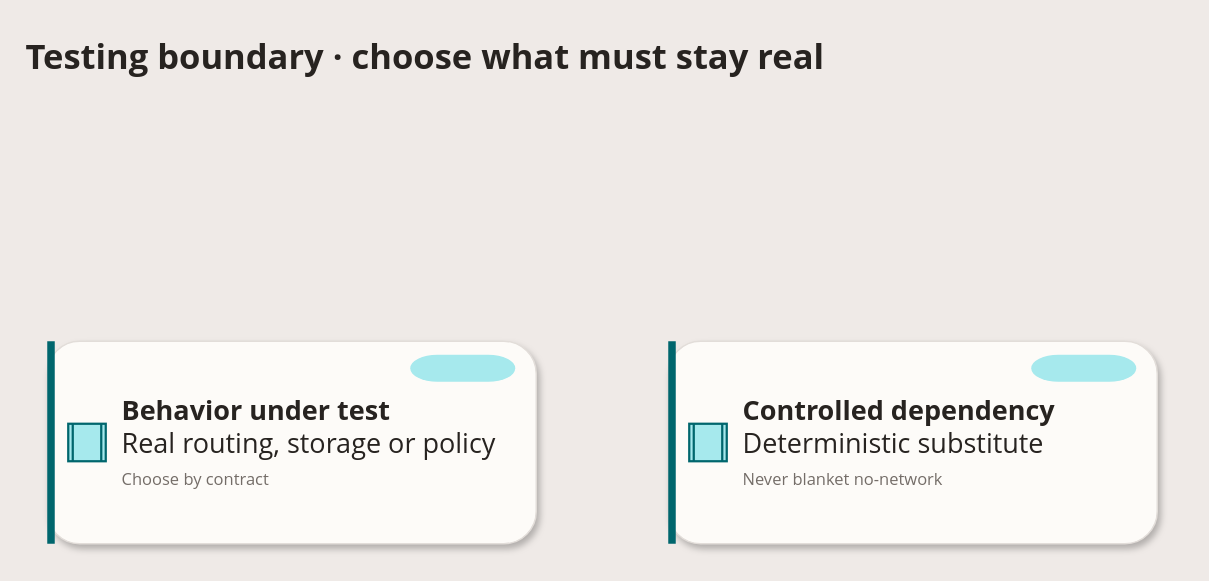
The diagram is 1209 pixels wide and 581 high, and some of its shapes have lost their labels. The shapes that lost their labels are listed below. From the top down, each one's centre as x and y in pixels, then its label:
At point 462,367: "SCOPE".
At point 1083,367: "RESULT".
